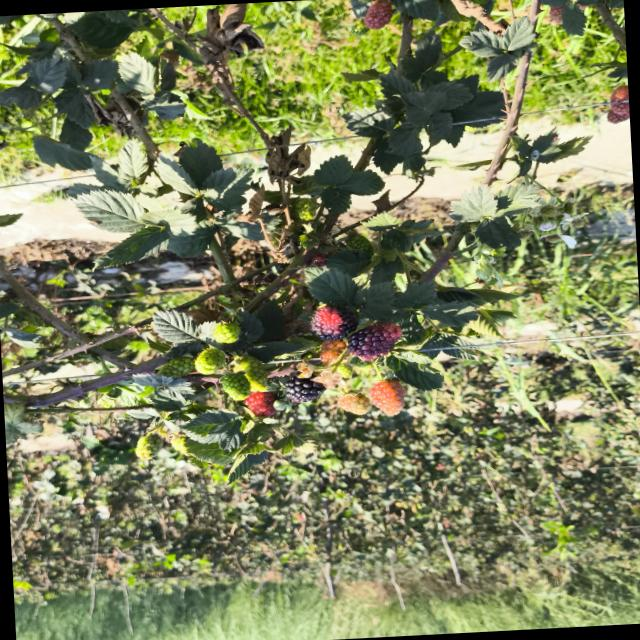maduro: (285, 376, 325, 403)
marron: (348, 322, 402, 361), (312, 306, 357, 340)
naranja: (370, 380, 405, 416), (244, 392, 276, 417), (338, 391, 371, 415), (320, 339, 346, 363)
verde: (234, 356, 267, 392), (221, 373, 251, 401), (158, 357, 195, 379), (195, 348, 226, 373), (135, 435, 162, 460), (212, 322, 240, 343)
